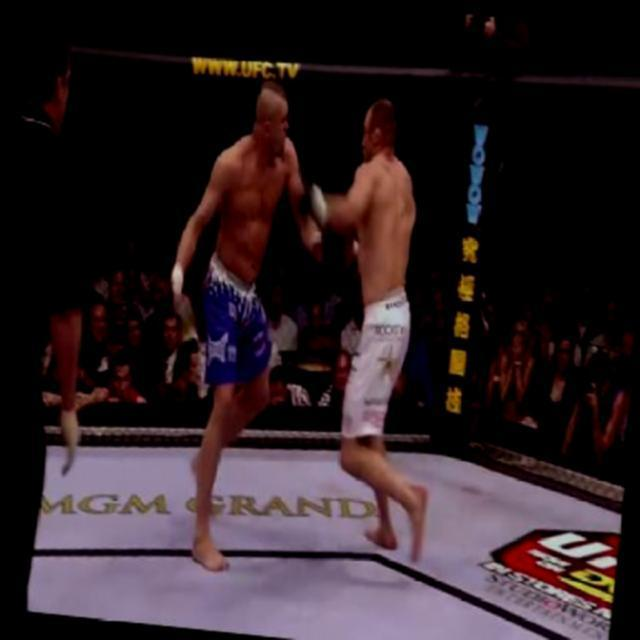fight: (144, 70, 443, 592)
